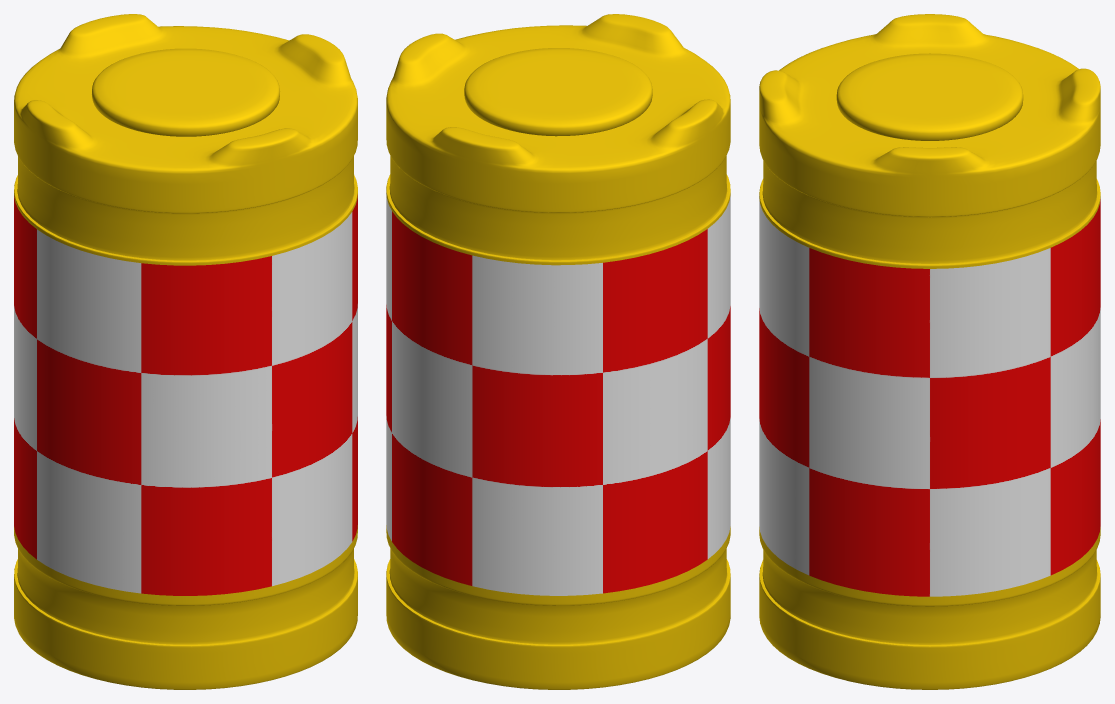
The model's file is Collision_Resistant_Barrel.fbx.
3 views of the same model, side by side, from view 1: azimuth 30°, elevation 25°; view 2: azimuth 150°, elevation 25°; view 3: azimuth 270°, elevation 25° (orthographic).
Parts seen in each view (by area): view 1: Collision_Resistant_Barrel; view 2: Collision_Resistant_Barrel; view 3: Collision_Resistant_Barrel.
Boxes of the visible parts, x1,y1,x2,y2 form: Collision_Resistant_Barrel: (14, 14, 357, 689); Collision_Resistant_Barrel: (386, 14, 730, 689); Collision_Resistant_Barrel: (759, 14, 1100, 689).
Size of the model in its own units: 0.58 by 1 by 0.58.
Materials: 2 (1 with a texture image).
